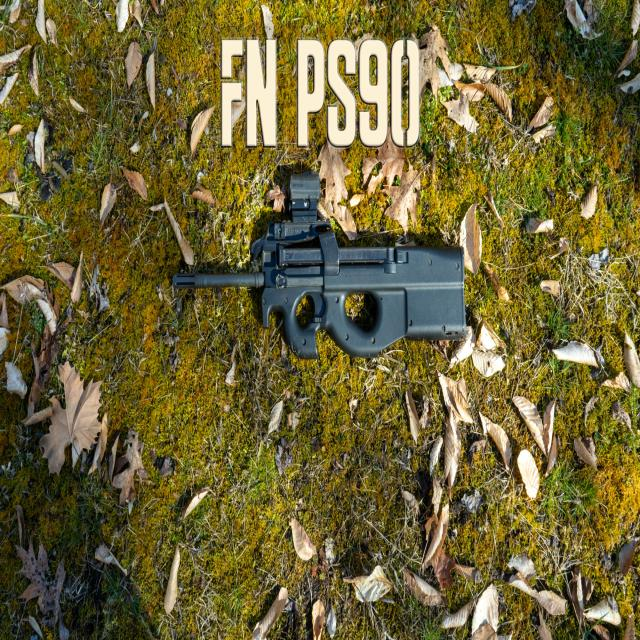Gun: (189, 148, 478, 365)
